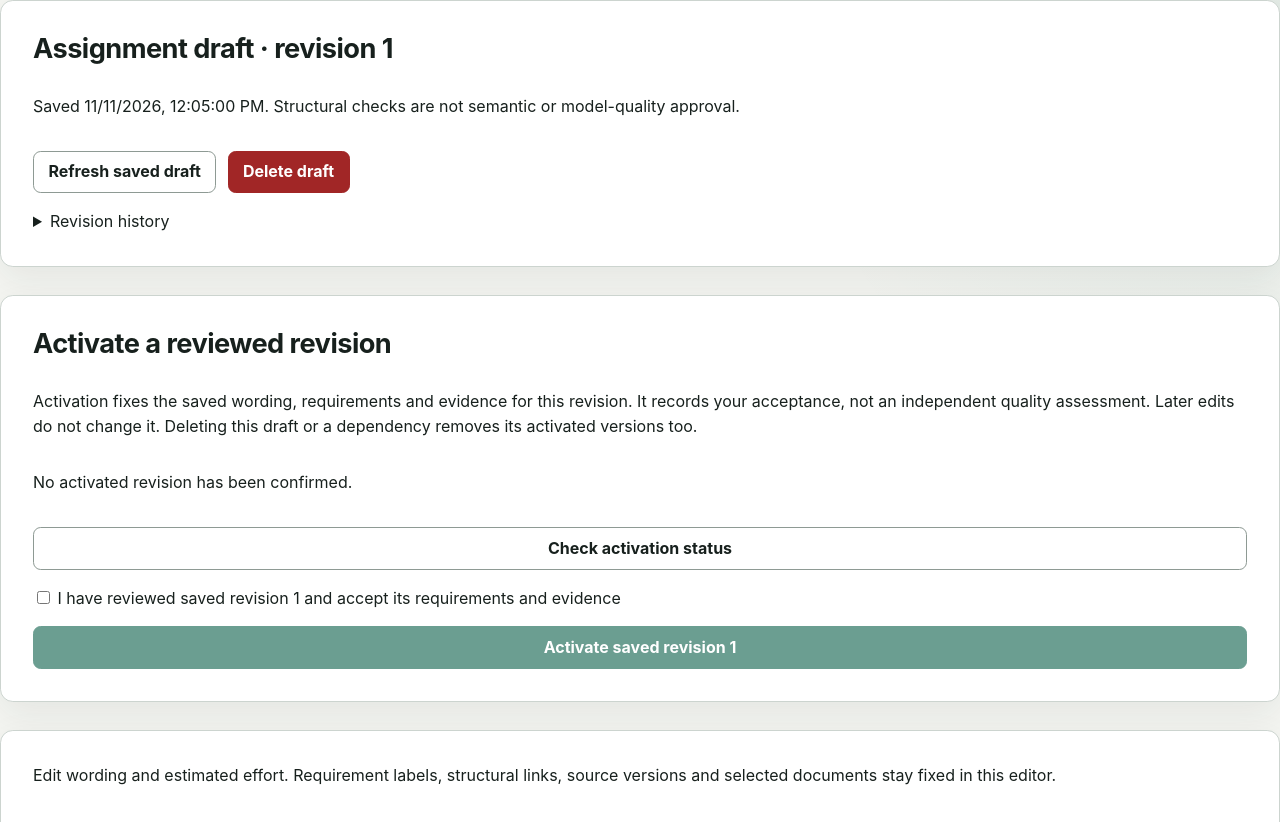
Scenario: explicit reviewed assignment activation › does not adopt a forged receipt with different reviewed content
Click the checkbox labelled "I have reviewed saved revision": (44, 597) x1=37 y1=590 x2=50 y2=604
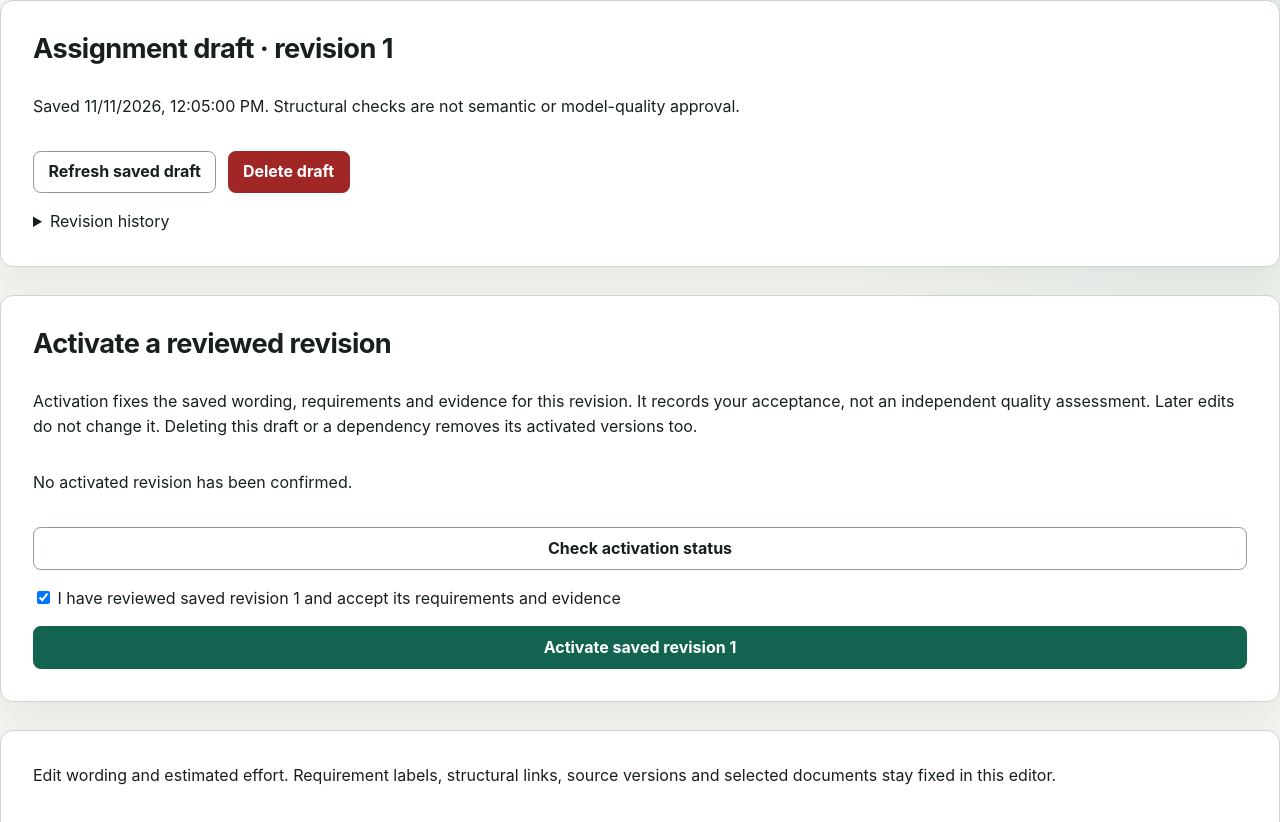
Click the button "Activate saved revision 1": (640, 648) x1=33 y1=626 x2=1247 y2=669
(page scrolled)
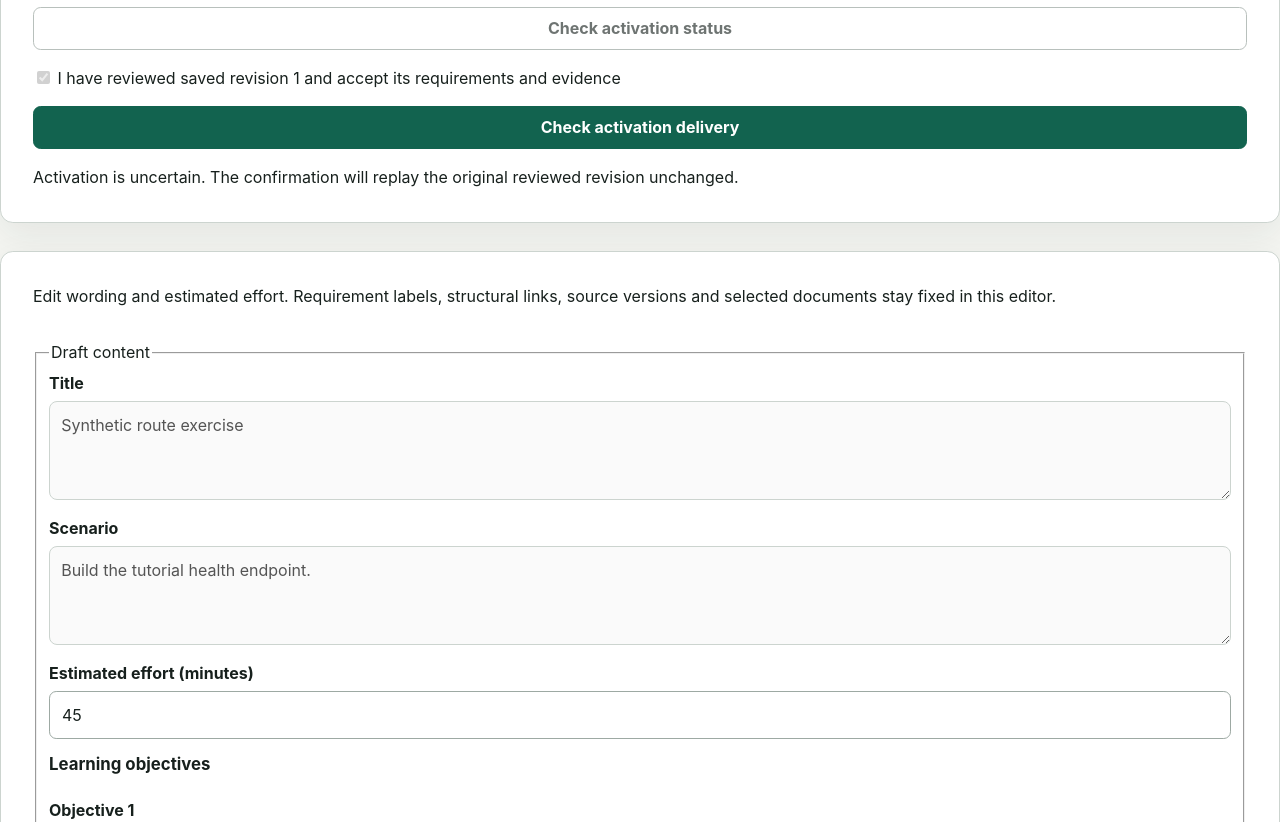
Expected: the text box labelled "Title" holds "Synthetic route exercise", x1=49 y1=401 x2=1231 y2=500
Now the button "Check activation delivery" is shown, box x1=33 y1=106 x2=1247 y2=149
